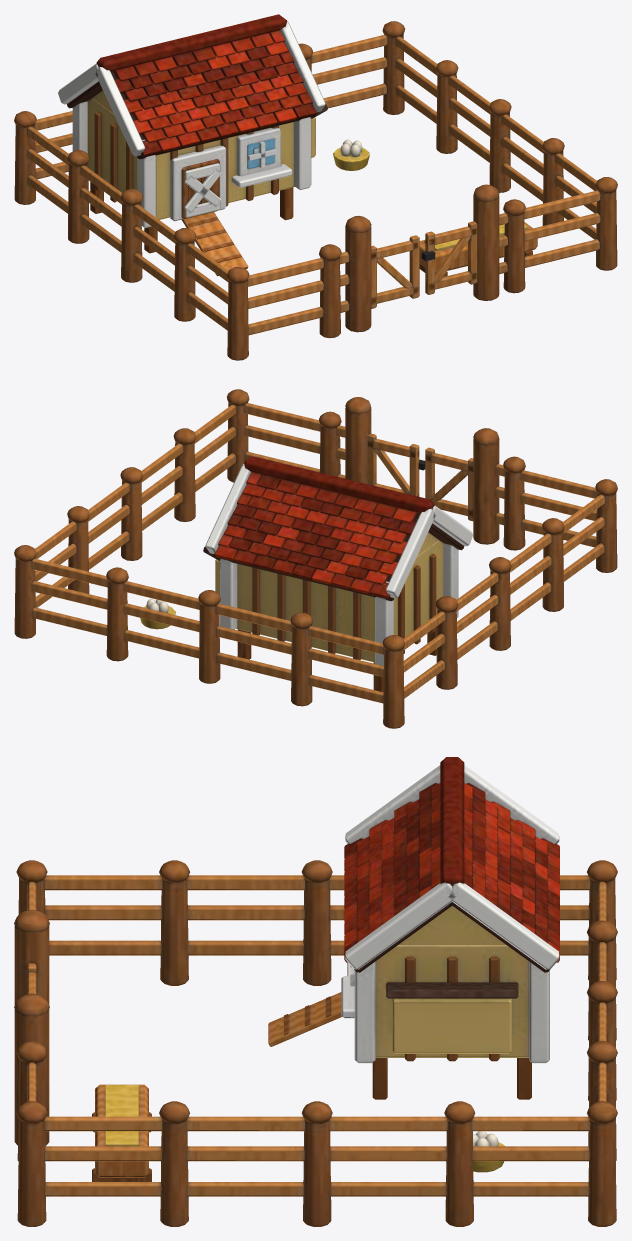
Rendered from rhode_coop.glb.
3 renders of one model, top to bottom at view 1: azimuth 30°, elevation 25°; view 2: azimuth 150°, elevation 25°; view 3: azimuth 270°, elevation 25°, orthographic. The views are drawn at different scales.
Parts seen in each view (by area): view 1: rhode_coop, gate1, gate0; view 2: rhode_coop, gate1, gate0; view 3: rhode_coop.
Boxes of the visible parts, box(x1,y1,x2,y2) form: rhode_coop: box(14, 14, 617, 360); gate1: box(421, 221, 477, 294); gate0: box(371, 235, 419, 308); rhode_coop: box(14, 389, 617, 728); gate1: box(367, 433, 425, 496); gate0: box(425, 447, 473, 521); rhode_coop: box(14, 757, 617, 1226).
Bounding box in the file's own units: 2 × 0.8813 × 2.01.
1 material, 1 textured.
